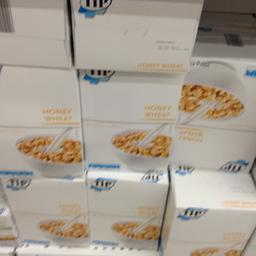cereal: (79, 68, 184, 170), (0, 64, 82, 175), (180, 57, 254, 169), (86, 170, 170, 249), (0, 174, 87, 244)
